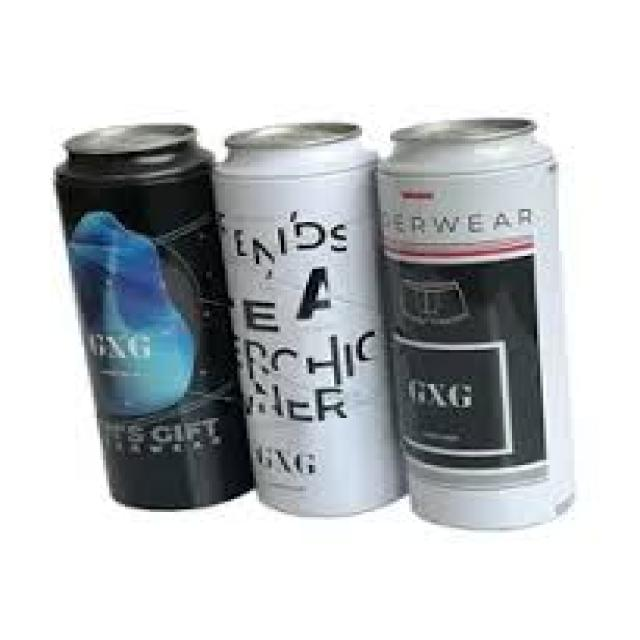Cans: (46, 112, 272, 512), (378, 107, 584, 530), (212, 112, 425, 512)
